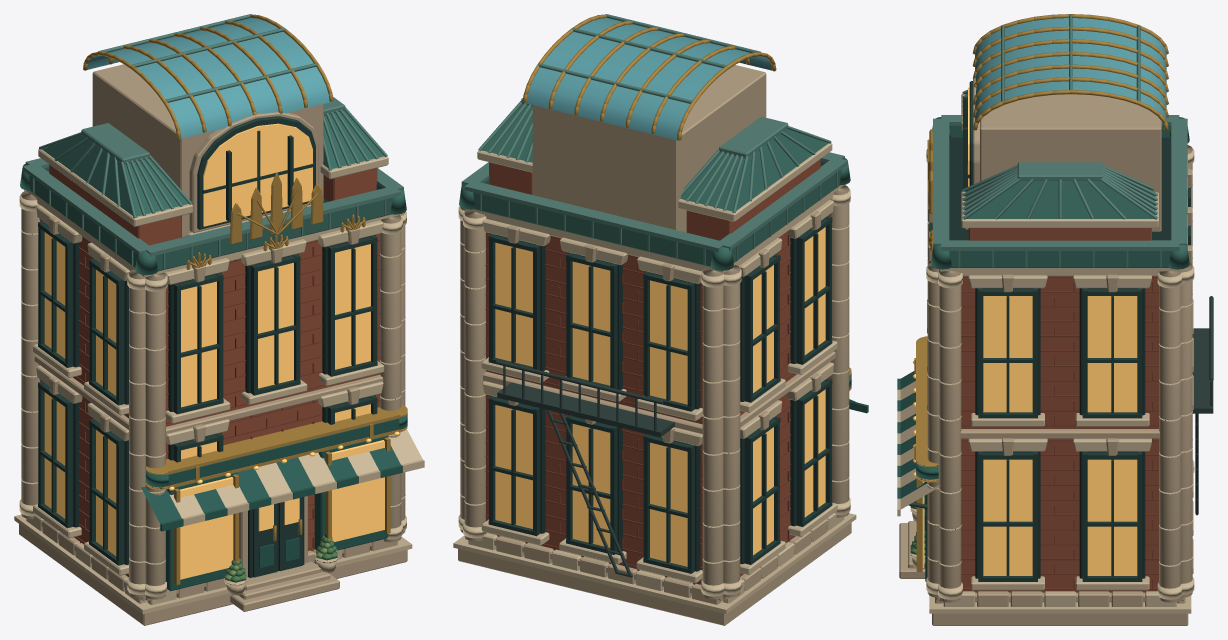
3 renders of one model, left to right at view 1: azimuth 30°, elevation 25°; view 2: azimuth 150°, elevation 25°; view 3: azimuth 270°, elevation 25°, orthographic. The views are drawn at different scales.
Parts seen in each view (by area): view 1: expansion_shop_3_geometry; view 2: expansion_shop_3_geometry; view 3: expansion_shop_3_geometry.
Boxes of the visible parts, box(x1,y1,x2,y2) form: expansion_shop_3_geometry: box(14, 14, 424, 625); expansion_shop_3_geometry: box(453, 14, 868, 625); expansion_shop_3_geometry: box(897, 14, 1213, 625).
Size of the model in its own units: 0.99 by 1.71 by 0.9618.
